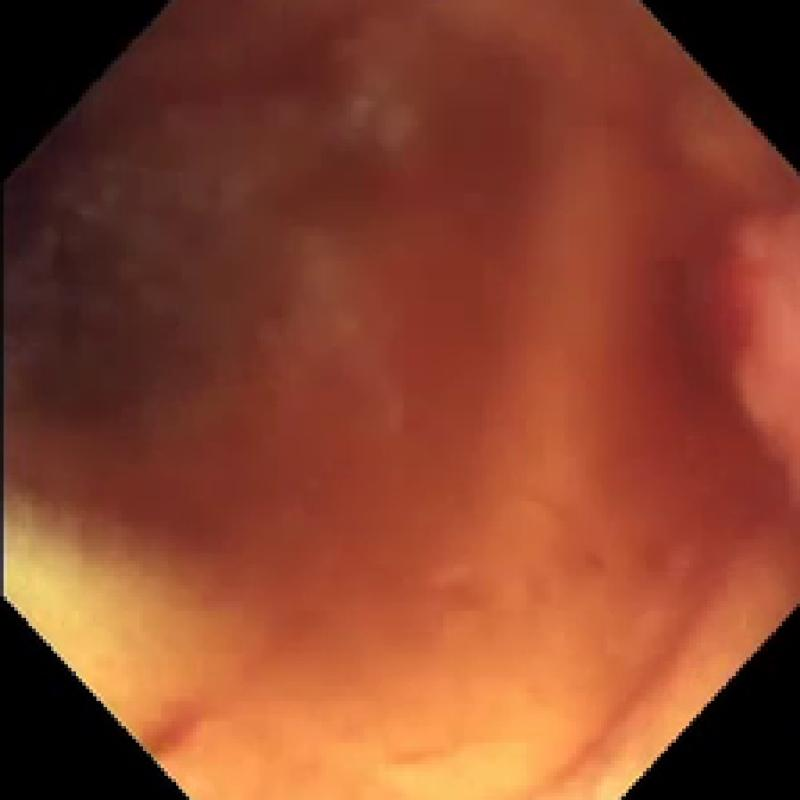bleeding: (14, 7, 800, 786)
